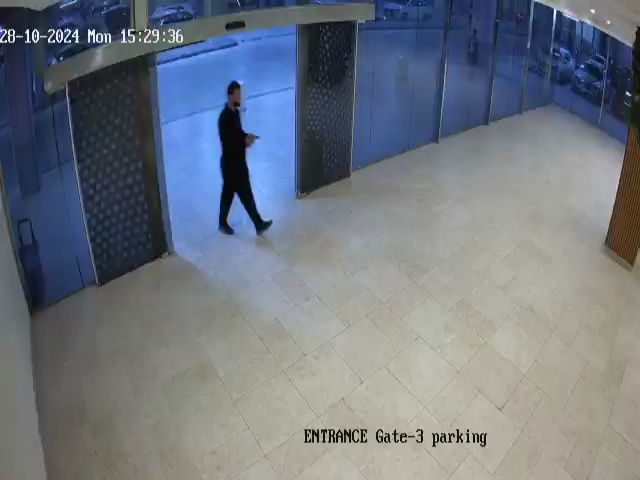male: (217, 80, 273, 237)
